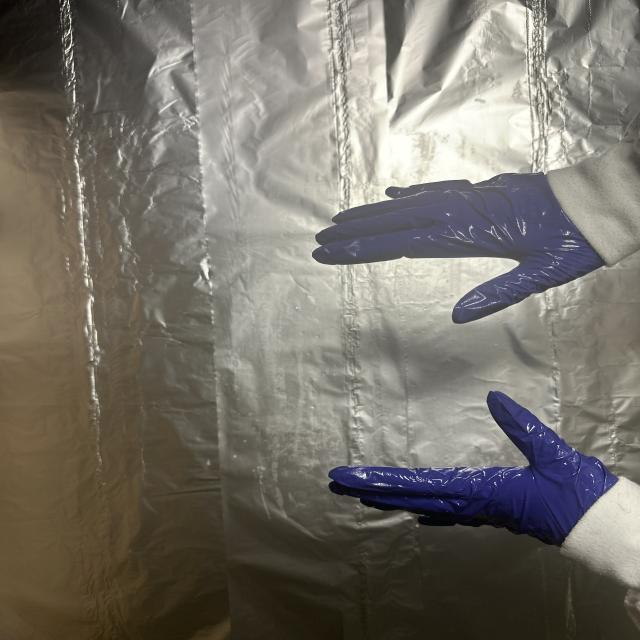gloves_contaminated: (330, 392, 621, 546), (312, 174, 604, 323)
